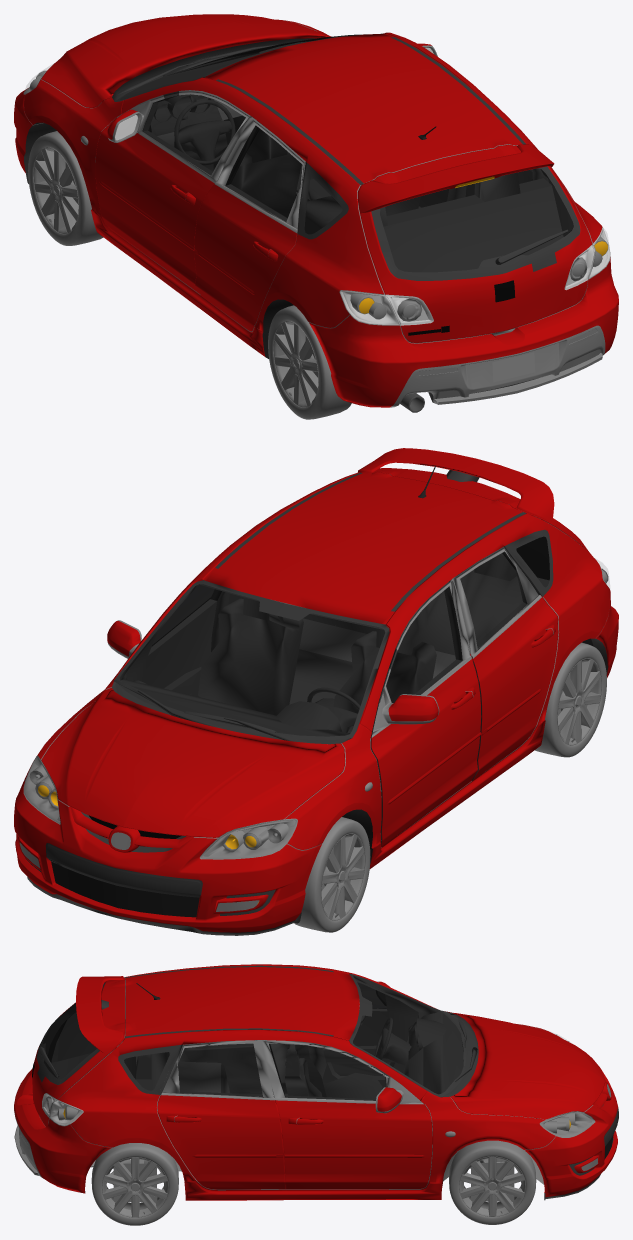
Rendered from car.obj.
3 renders of one model, top to bottom at view 1: azimuth 30°, elevation 25°; view 2: azimuth 150°, elevation 25°; view 3: azimuth 270°, elevation 25°, orthographic. The views are drawn at different scales.
Visible parts, largest first — view 1: chassis02, boot_ok06, door_lr_ok02, bump_rear_02, bonnet_ok02, rear_boot02, wheel12, wheel11, windscreen02, bump_front02, plate_rear02; view 2: chassis02, door_lr_ok02, bonnet_ok02, windscreen02, bump_front02, boot_ok06, wheel11, wheel12, door_rf_o02, Object03, bump_rear_02, boot_ok08; view 3: chassis02, door_lr_ok02, bonnet_ok02, windscreen02, boot_ok06, wheel09, wheel10, bump_front02, bump_rear_02, door_lf_o02, rear_boot02, boot_ok08.
Boxes of the visible parts, x1=… form: chassis02: x1=24, y1=20, x2=609, y2=358; boot_ok06: x1=357, y1=144, x2=594, y2=343; door_lr_ok02: x1=95, y1=43, x2=531, y2=331; bump_rear_02: x1=309, y1=252, x2=618, y2=407; bonnet_ok02: x1=41, y1=14, x2=330, y2=107; rear_boot02: x1=384, y1=179, x2=572, y2=271; wheel12: x1=268, y1=305, x2=351, y2=419; wheel11: x1=28, y1=131, x2=103, y2=245; windscreen02: x1=120, y1=34, x2=373, y2=99; bump_front02: x1=14, y1=87, x2=56, y2=183; plate_rear02: x1=492, y1=352, x2=535, y2=382; chassis02: x1=24, y1=466, x2=609, y2=868; door_lr_ok02: x1=107, y1=547, x2=557, y2=847; bonnet_ok02: x1=41, y1=687, x2=345, y2=837; windscreen02: x1=119, y1=584, x2=385, y2=736; bump_front02: x1=14, y1=780, x2=321, y2=935; boot_ok06: x1=358, y1=448, x2=588, y2=551; wheel11: x1=294, y1=817, x2=370, y2=932; wheel12: x1=535, y1=642, x2=606, y2=757; door_rf_o02: x1=126, y1=599, x2=216, y2=696; Object03: x1=51, y1=861, x2=199, y2=917; bump_rear_02: x1=591, y1=590, x2=618, y2=677; boot_ok08: x1=517, y1=537, x2=549, y2=579; chassis02: x1=49, y1=964, x2=594, y2=1200; door_lr_ok02: x1=157, y1=981, x2=432, y2=1189; bonnet_ok02: x1=451, y1=1013, x2=605, y2=1119; windscreen02: x1=353, y1=975, x2=463, y2=1094; boot_ok06: x1=32, y1=976, x2=124, y2=1126; wheel09: x1=449, y1=1140, x2=536, y2=1224; wheel10: x1=91, y1=1143, x2=178, y2=1225; bump_front02: x1=525, y1=1066, x2=618, y2=1200; bump_rear_02: x1=14, y1=1068, x2=111, y2=1193; door_lf_o02: x1=322, y1=995, x2=418, y2=1088; rear_boot02: x1=54, y1=1012, x2=135, y2=1078; boot_ok08: x1=43, y1=1003, x2=75, y2=1077.
Size of the model in its own units: 2392 by 1782 by 5108.
